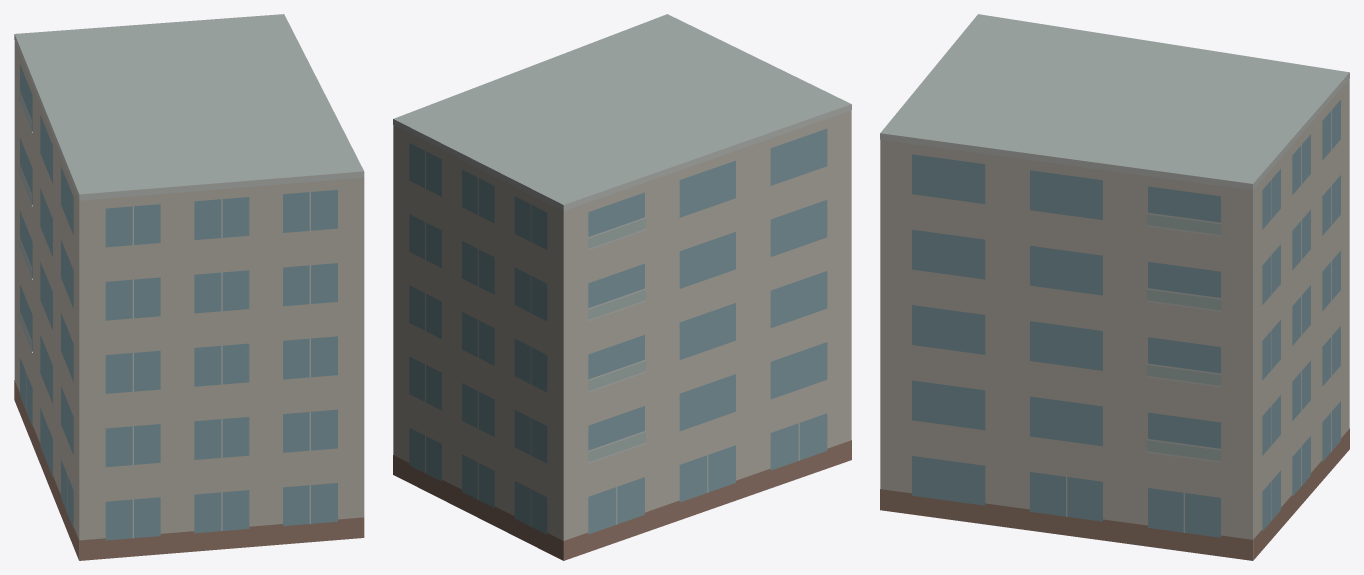
File: survey-upis-33029894.glb
The picture shows the model from 3 angles, left to right: view 1: azimuth 30°, elevation 25°; view 2: azimuth 150°, elevation 25°; view 3: azimuth 270°, elevation 25°; orthographic projection. The views are drawn at different scales.
Parts seen in each view (by area): view 1: survey-upis-33029894.tmp; view 2: survey-upis-33029894.tmp; view 3: survey-upis-33029894.tmp.
Part boxes in pixels (left/top/right/bottom): survey-upis-33029894.tmp: left=14, top=14, right=364, bottom=560; survey-upis-33029894.tmp: left=393, top=14, right=851, bottom=560; survey-upis-33029894.tmp: left=880, top=14, right=1349, bottom=560.
Size of the model in its own units: 13.93 by 14.4 by 16.27.
